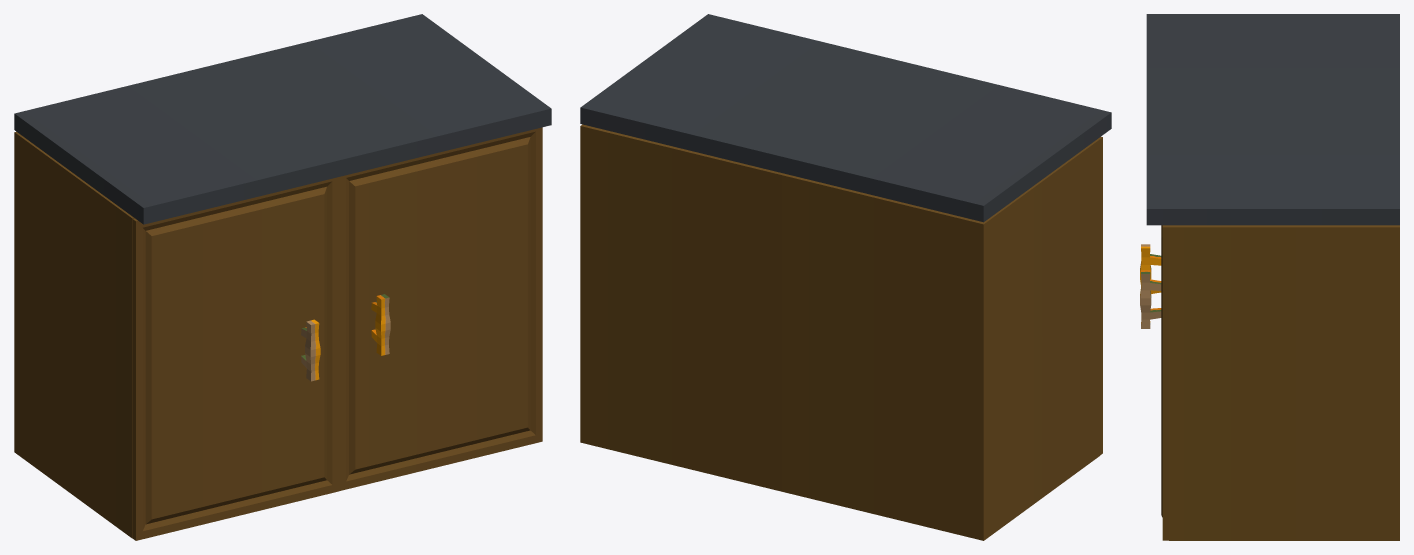
File: KitchenTabletop2_03.fbx
3 renders of one model, left to right at view 1: azimuth 30°, elevation 25°; view 2: azimuth 150°, elevation 25°; view 3: azimuth 270°, elevation 25°, orthographic. The views are drawn at different scales.
Visible parts, largest first — view 1: KitchenTabletop2_03; view 2: KitchenTabletop2_03; view 3: KitchenTabletop2_03.
Boxes of the visible parts, left/top/right/bottom form: KitchenTabletop2_03: left=14, top=14, right=551, bottom=540; KitchenTabletop2_03: left=580, top=14, right=1111, bottom=540; KitchenTabletop2_03: left=1140, top=14, right=1399, bottom=540.
Size of the model in its own units: 1.11 by 0.8833 by 0.6262.
